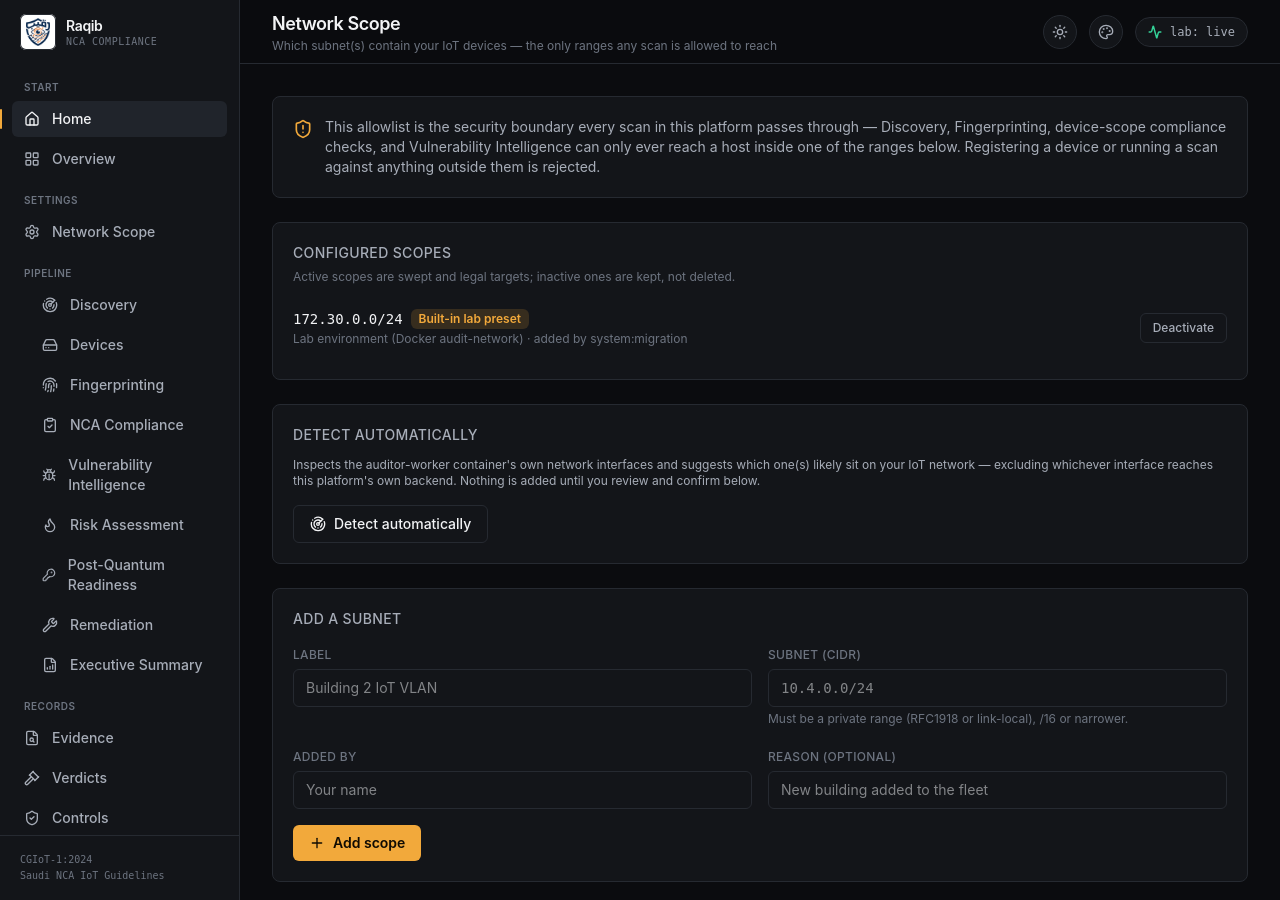
NetworkScopePage › shows a field-specific error when adding an invalid subnet
Expected: the text "172.30.0.0/24" is shown, [293,309,403,329]
Type "Bad" into the field labelled "Label" at [522, 688], box [293,669,752,707]
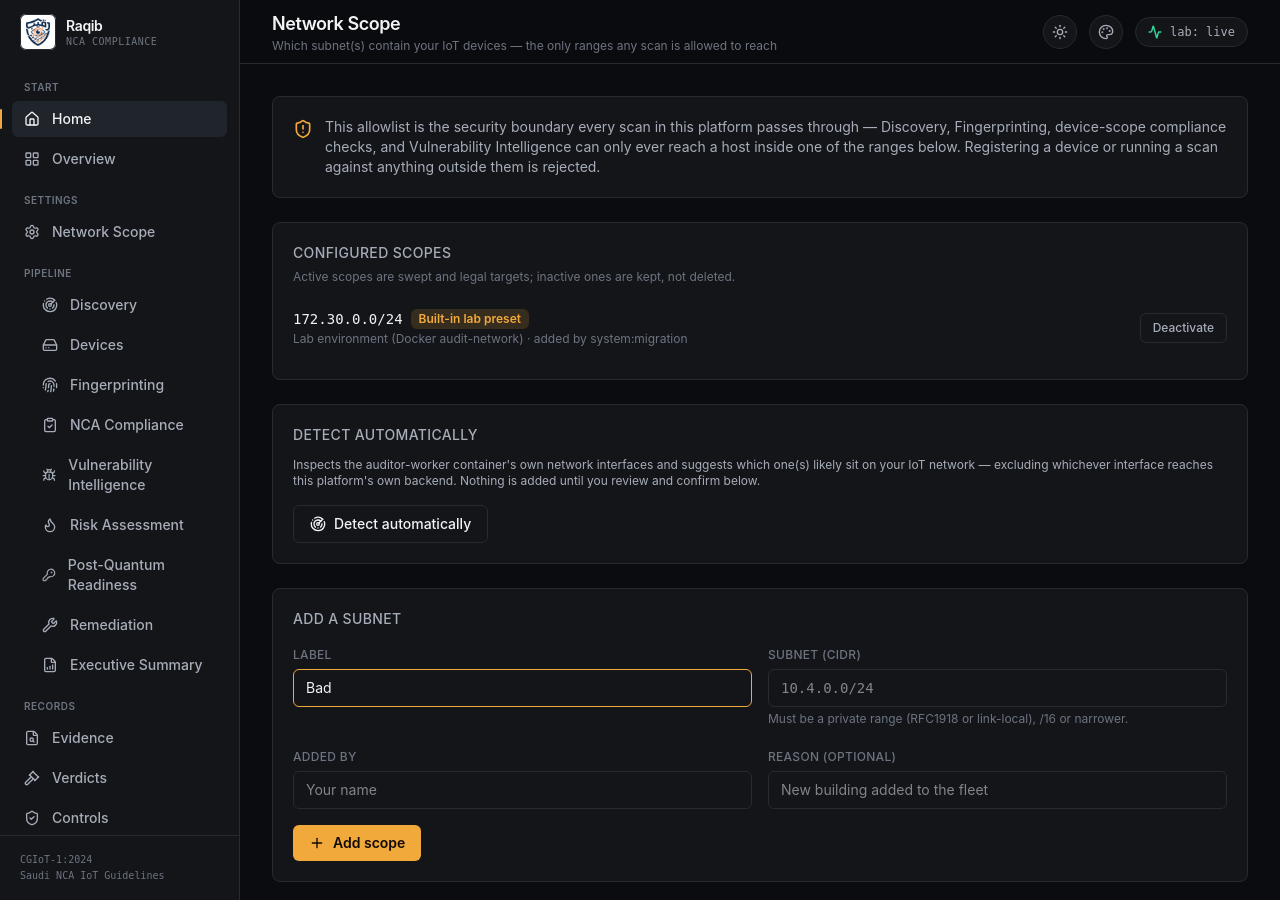
Type "8.8.8.0/24" into the field labelled "Subnet (CIDR)" at [998, 688], box [768,669,1227,707]
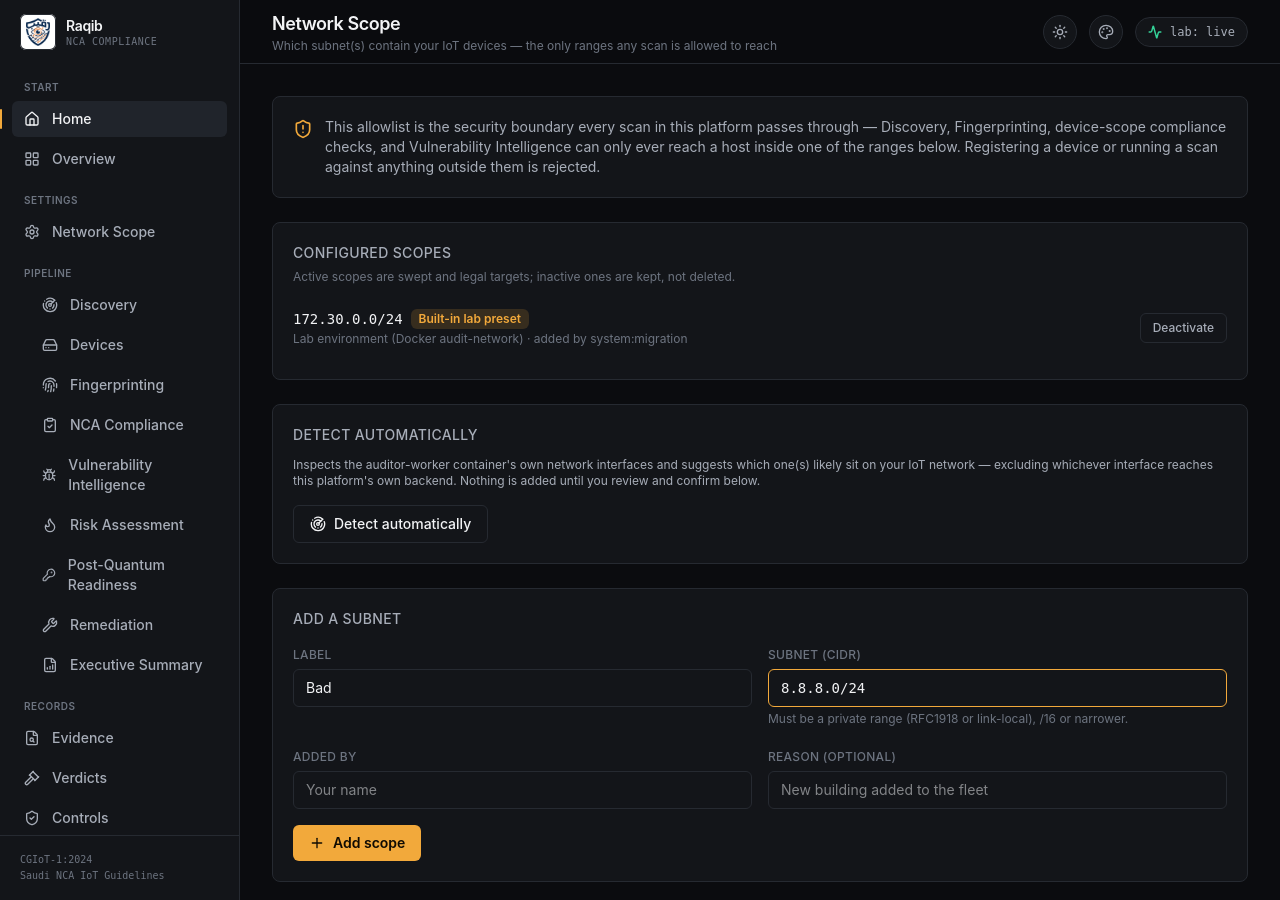
Type "auditor" into the field labelled "Added by" at [522, 790], box [293,771,752,809]
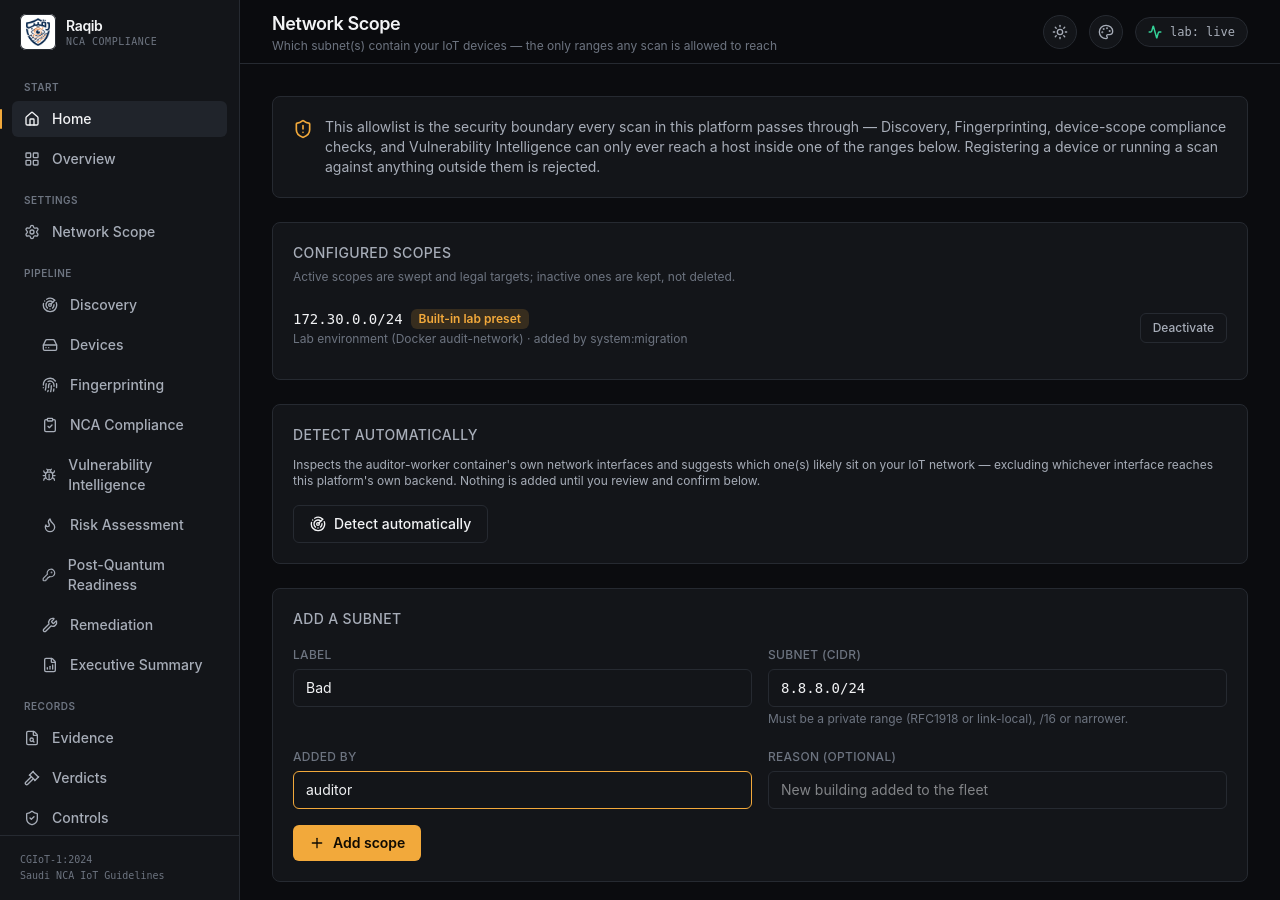
Click the button "Add scope" at [357, 843], box [293,825,421,861]
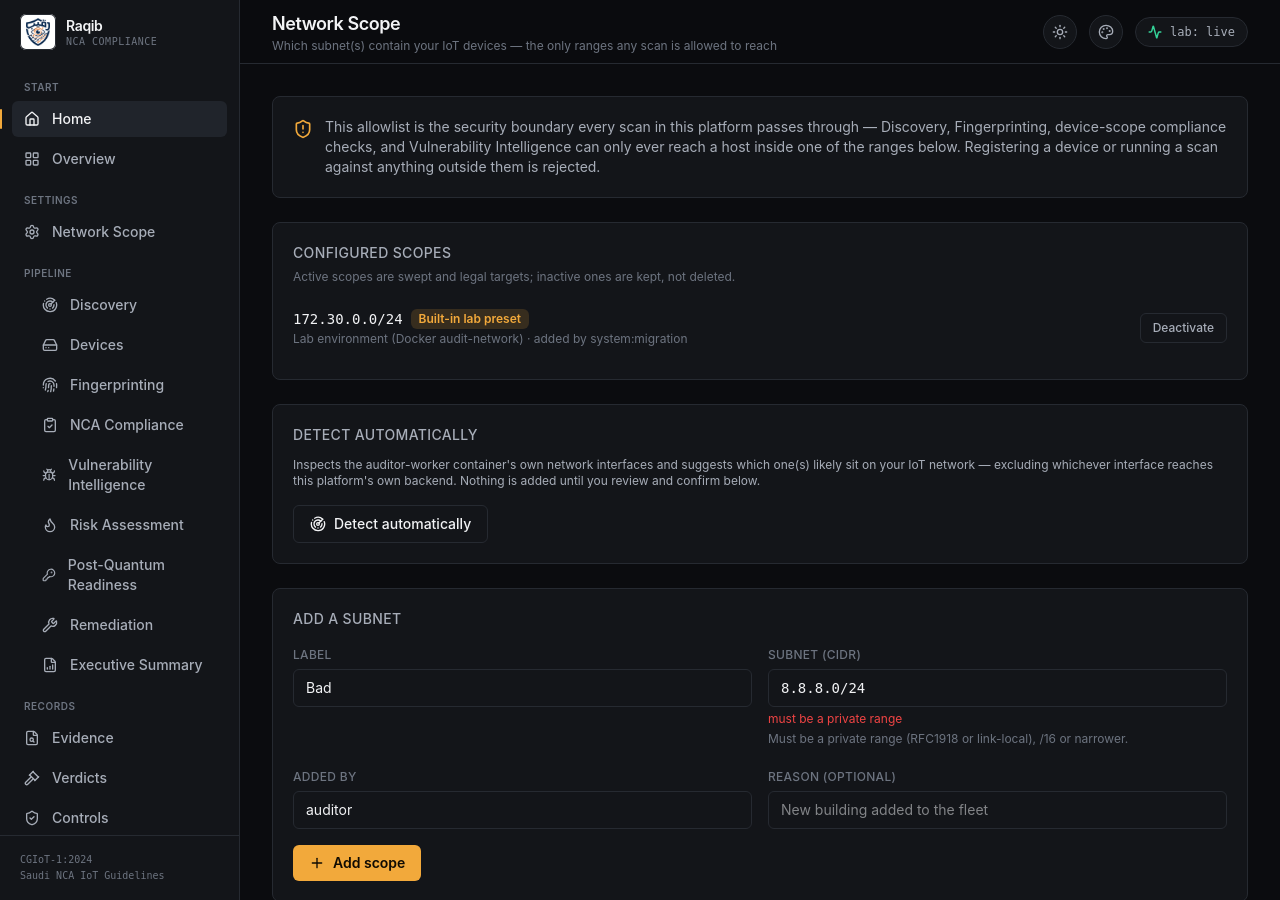
Expected: the text "must be a private range" is shown, [768,711,902,726]
